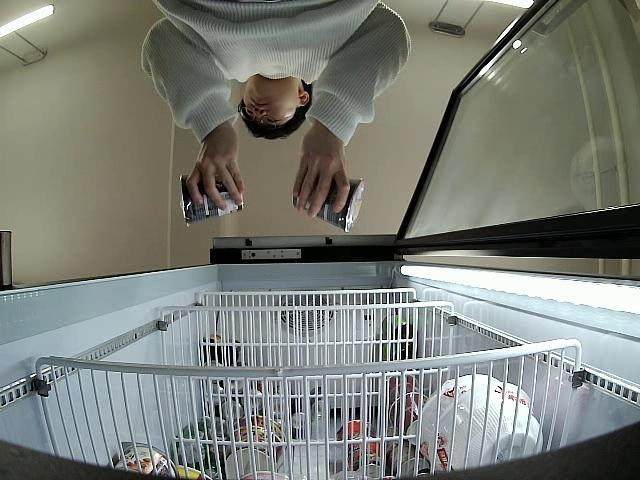08_buldak_S: (292, 175, 365, 232), (178, 174, 242, 228)
